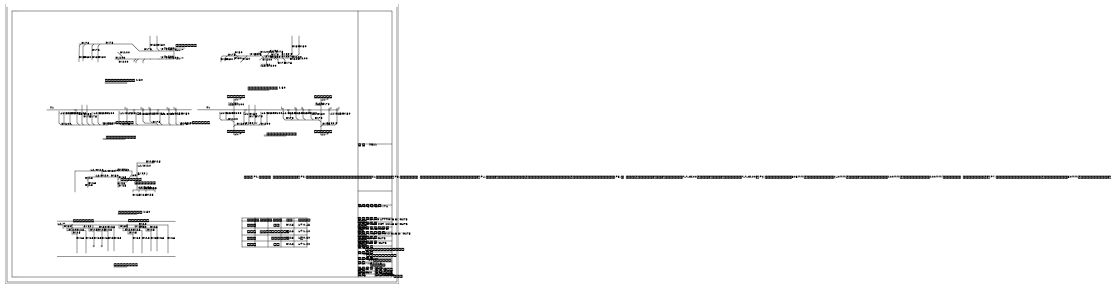corridor: (997, 144, 1095, 282)
door: (735, 164, 792, 166)
room: (997, 96, 1095, 144)
window: (197, 179, 202, 180), (363, 179, 367, 180), (432, 179, 436, 180), (678, 179, 682, 180), (799, 179, 803, 180), (859, 179, 863, 180)
